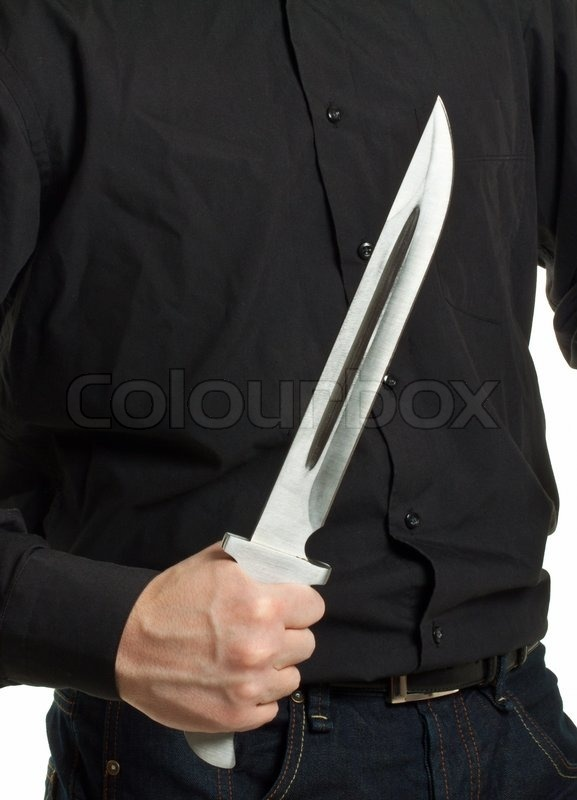knife: (186, 93, 454, 767)
